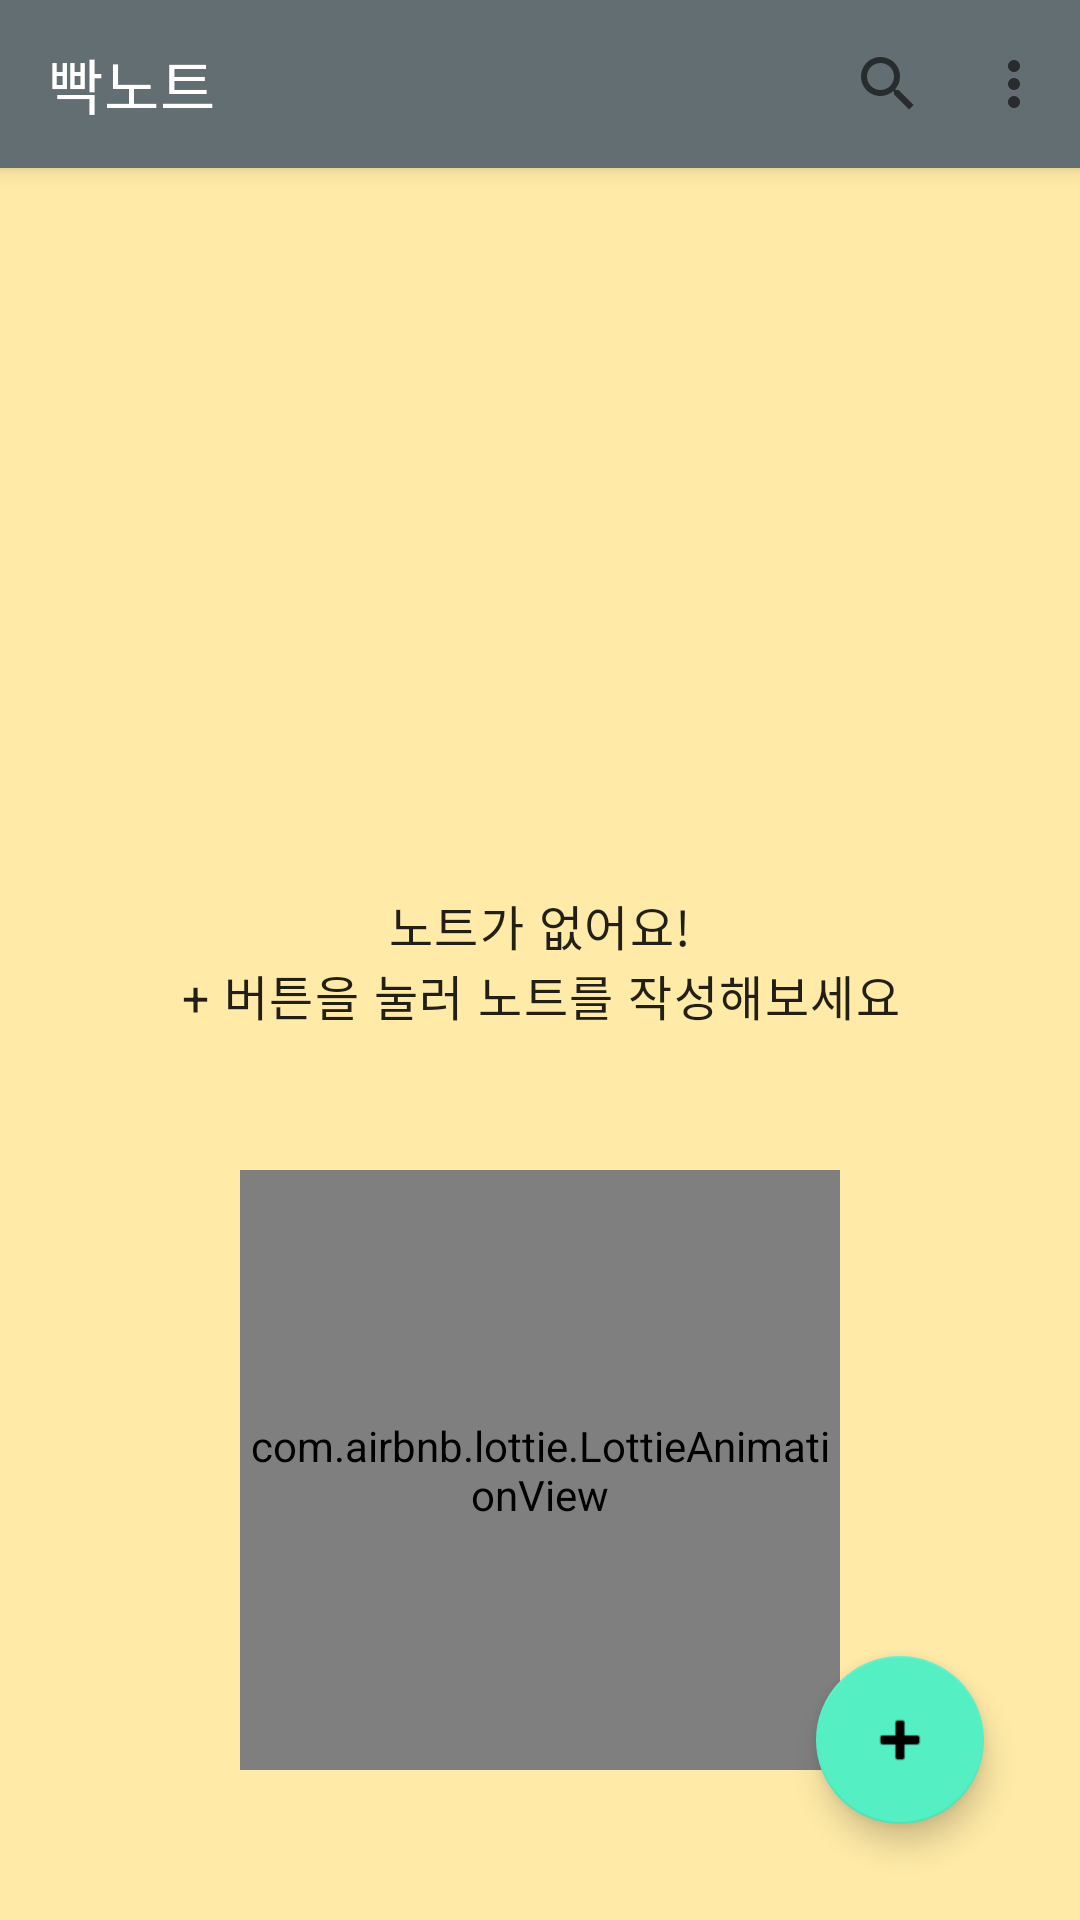

Screen size 1080x1920. Icon name, then its center in pixels as point (x, y):
Add note button: point (900, 1740)
